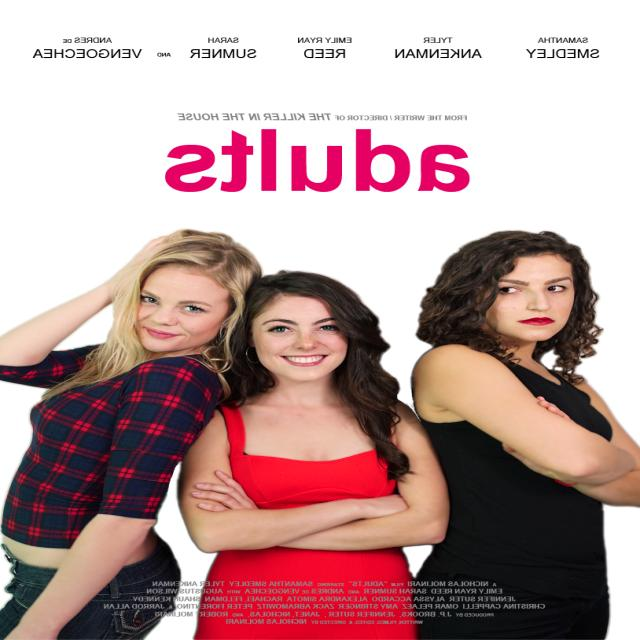adult: (1, 231, 263, 640), (180, 270, 449, 640), (414, 227, 638, 640)
